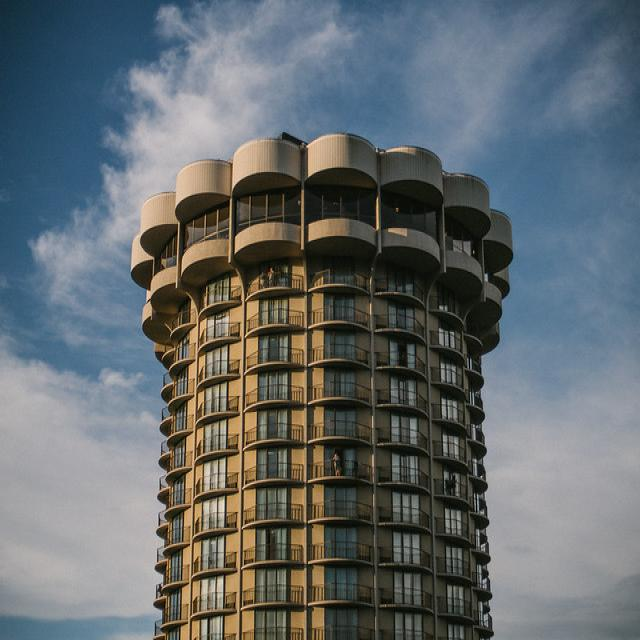Normal_building: (125, 126, 518, 640)
